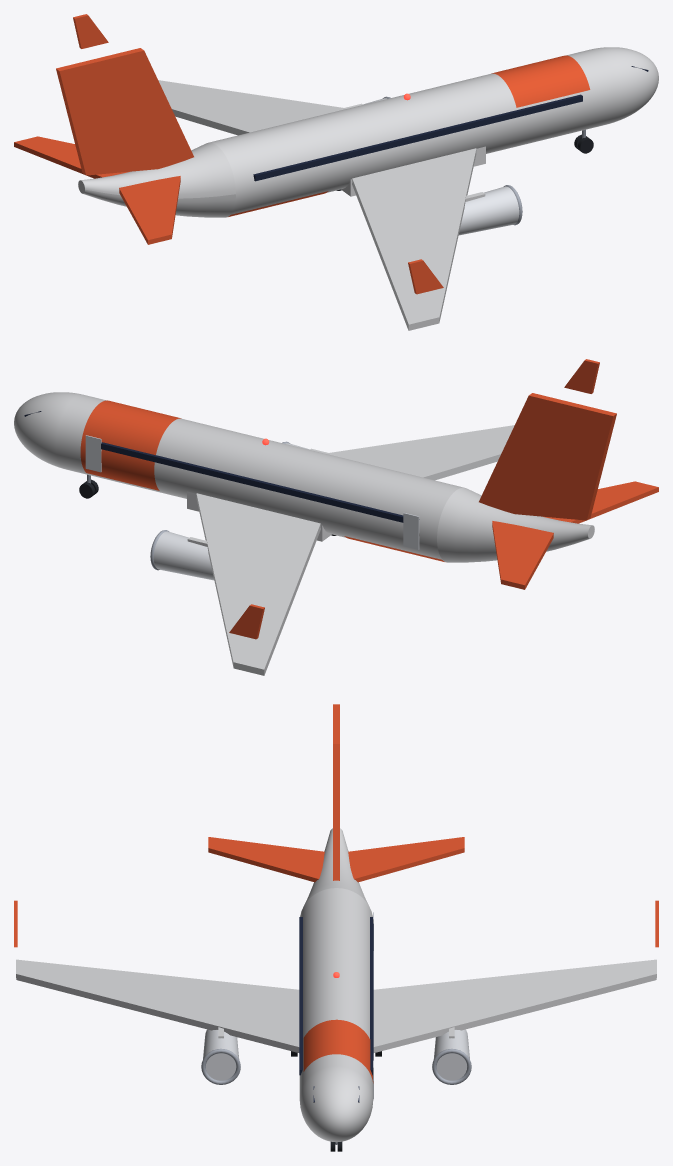
The model's file is airliner-red.glb.
The picture shows the model from 3 angles, top to bottom: view 1: azimuth 30°, elevation 25°; view 2: azimuth 150°, elevation 25°; view 3: azimuth 270°, elevation 25°; orthographic projection. The views are drawn at different scales.
Visible parts, largest first — view 1: Fuselage, WingR, Fin, TailCone, WingL, LiveryBand, StabR, Nose, Windows, NacelleR, Winglet (×2), StabL; view 2: Fuselage, WingL, Fin, TailCone, WingR, LiveryBand, StabL, Nose, Windows, NacelleL, Winglet (×2), StabR (+1 smaller); view 3: WingR, WingL, Fuselage, Nose, StabR, StabL, LiveryBand, TailCone, NacelleR, NacelleL, Fin, Windows.
Boxes of the visible parts, <box> form: Fuselage: <box>209,49,616,216</box>; WingR: <box>352,148,476,330</box>; Fin: <box>56,48,193,175</box>; TailCone: <box>81,142,235,217</box>; WingL: <box>158,80,347,135</box>; LiveryBand: <box>491,55,590,107</box>; StabR: <box>119,176,180,244</box>; Nose: <box>589,47,658,123</box>; Windows: <box>253,94,582,181</box>; NacelleR: <box>458,186,519,235</box>; Winglet (×2): <box>73,14,443,294</box>; StabL: <box>14,136,129,178</box>; Fuselage: <box>56,394,463,561</box>; WingL: <box>196,493,320,675</box>; Fin: <box>479,393,616,520</box>; TailCone: <box>437,487,591,562</box>; WingR: <box>325,425,514,480</box>; LiveryBand: <box>80,400,181,490</box>; StabL: <box>492,521,553,589</box>; Nose: <box>14,392,83,468</box>; Windows: <box>101,442,419,522</box>; NacelleL: <box>153,531,214,580</box>; Winglet (×2): <box>229,359,599,639</box>; StabR: <box>543,481,658,523</box>; WingR: <box>16,959,299,1052</box>; WingL: <box>373,959,656,1052</box>; Fuselage: <box>299,888,373,1097</box>; Nose: <box>299,1066,373,1142</box>; StabR: <box>208,837,324,882</box>; StabL: <box>348,837,464,882</box>; LiveryBand: <box>303,1019,373,1083</box>; TailCone: <box>304,828,368,904</box>; NacelleR: <box>203,1029,239,1080</box>; NacelleL: <box>433,1029,469,1080</box>; Fin: <box>333,704,339,880</box>; Windows: <box>299,917,373,1075</box>.
Size of the model in its own units: 35.05 by 11.75 by 34.2.
